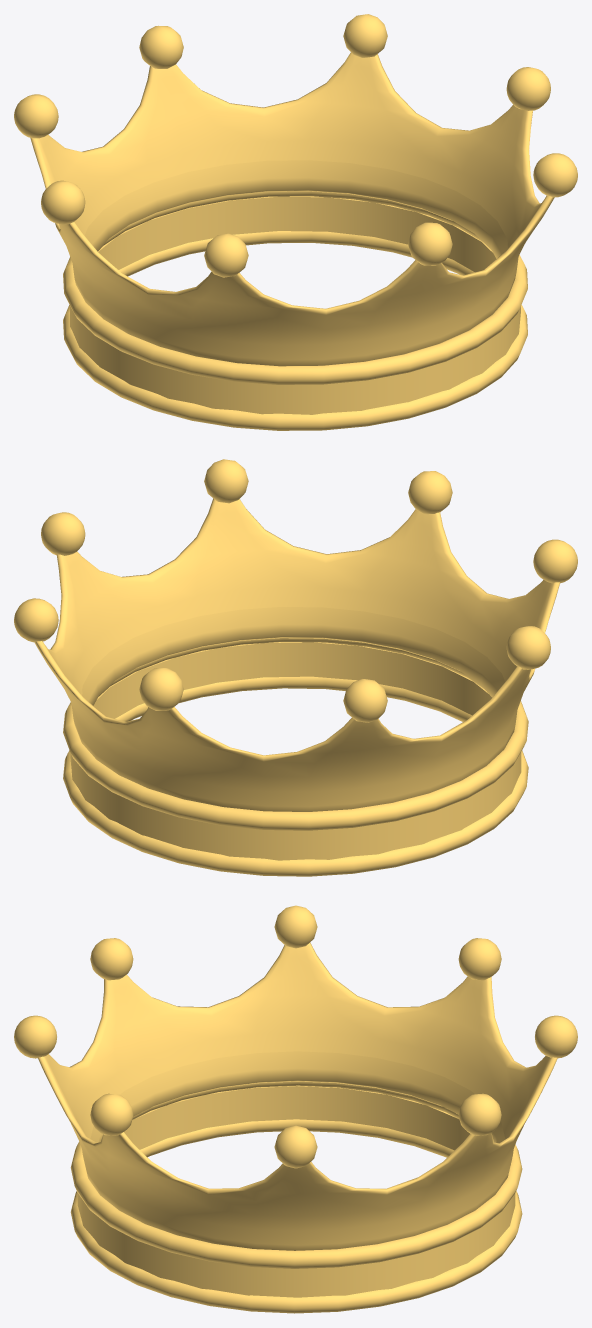
Rendered from Crown.glb.
3 renders of one model, top to bottom at view 1: azimuth 30°, elevation 25°; view 2: azimuth 150°, elevation 25°; view 3: azimuth 270°, elevation 25°, orthographic. The views are drawn at different scales.
Visible parts, largest first — view 1: Cylinder, Cylinder 2, Crown, Torus, Torus 2; view 2: Cylinder, Cylinder 2, Crown, Torus 2, Torus; view 3: Cylinder, Cylinder 2, Torus 2, Crown, Torus.
Boxes of the visible parts, x1=… form: Cylinder: x1=30, y1=52, x2=554, y2=366; Cylinder 2: x1=70, y1=196, x2=520, y2=414; Crown: x1=14, y1=14, x2=577, y2=277; Torus: x1=63, y1=191, x2=527, y2=384; Torus 2: x1=63, y1=231, x2=527, y2=430; Cylinder: x1=34, y1=498, x2=559, y2=811; Cylinder 2: x1=70, y1=642, x2=521, y2=860; Crown: x1=14, y1=459, x2=577, y2=722; Torus 2: x1=63, y1=676, x2=528, y2=876; Torus: x1=63, y1=638, x2=528, y2=830; Cylinder: x1=38, y1=942, x2=557, y2=1250; Cylinder 2: x1=77, y1=1085, x2=515, y2=1297; Torus 2: x1=70, y1=1119, x2=522, y2=1313; Crown: x1=14, y1=905, x2=577, y2=1168; Torus: x1=70, y1=1081, x2=522, y2=1268.
Size of the model in its own units: 0.4458 by 0.1783 by 0.4458.
